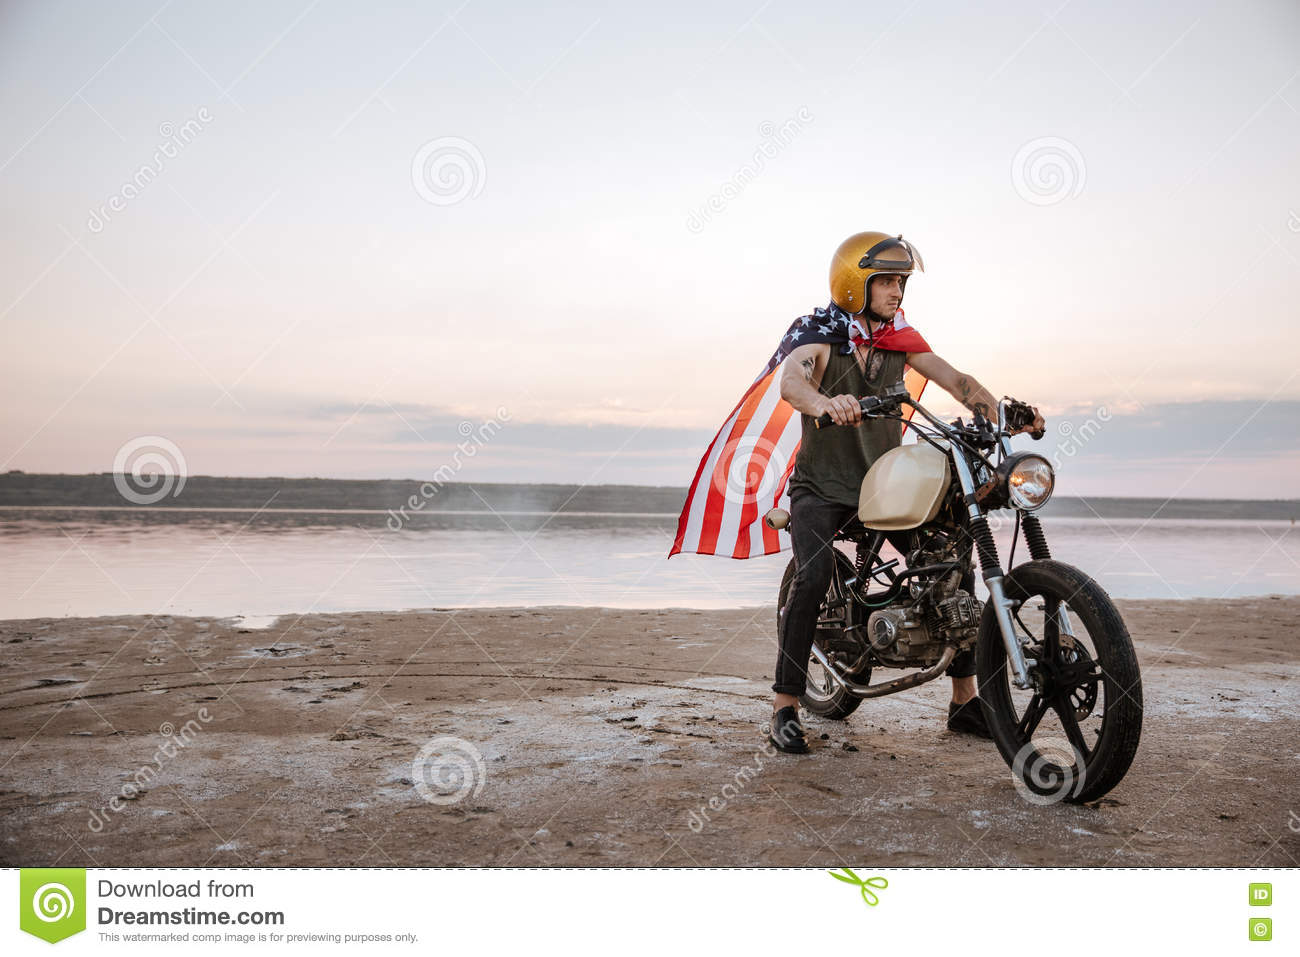helmet: (824, 224, 911, 332)
